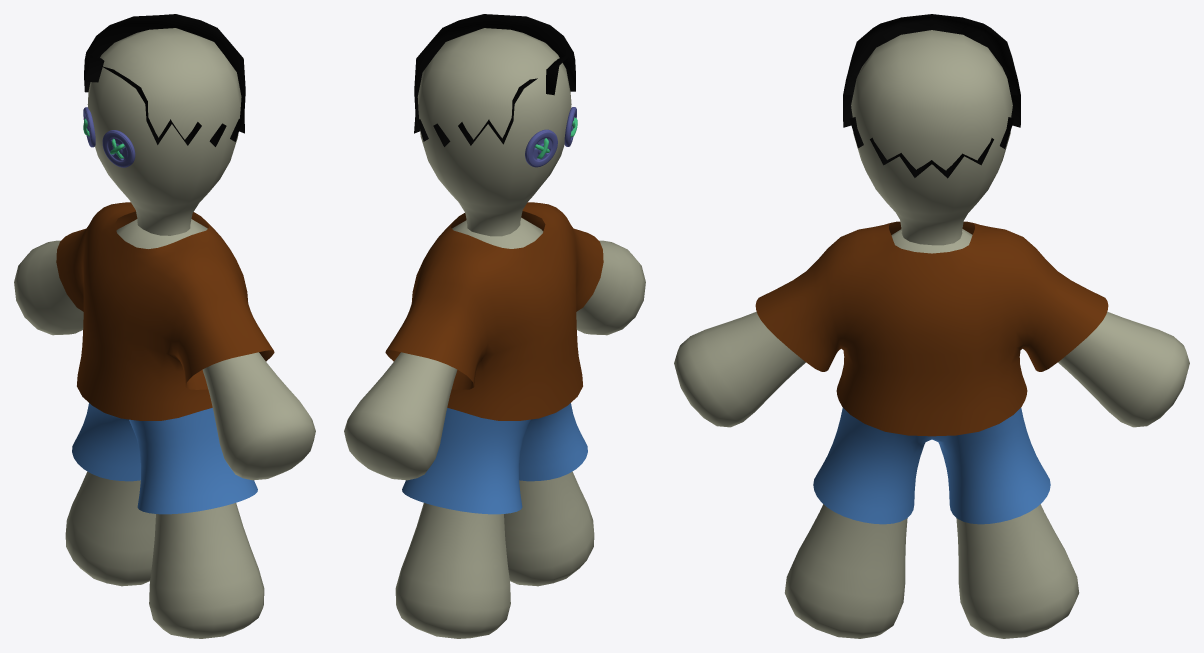
The model's file is BoyDoll.fbx.
3 renders of one model, left to right at view 1: azimuth 30°, elevation 25°; view 2: azimuth 150°, elevation 25°; view 3: azimuth 270°, elevation 25°, orthographic. The views are drawn at different scales.
Visible parts, largest first — view 1: DollB; view 2: DollB; view 3: DollB.
Boxes of the visible parts, x1=… form: DollB: x1=14, y1=14, x2=315, y2=638; DollB: x1=344, y1=14, x2=645, y2=638; DollB: x1=674, y1=14, x2=1189, y2=638.
Size of the model in its own units: 17.19 by 64.9 by 50.24.
